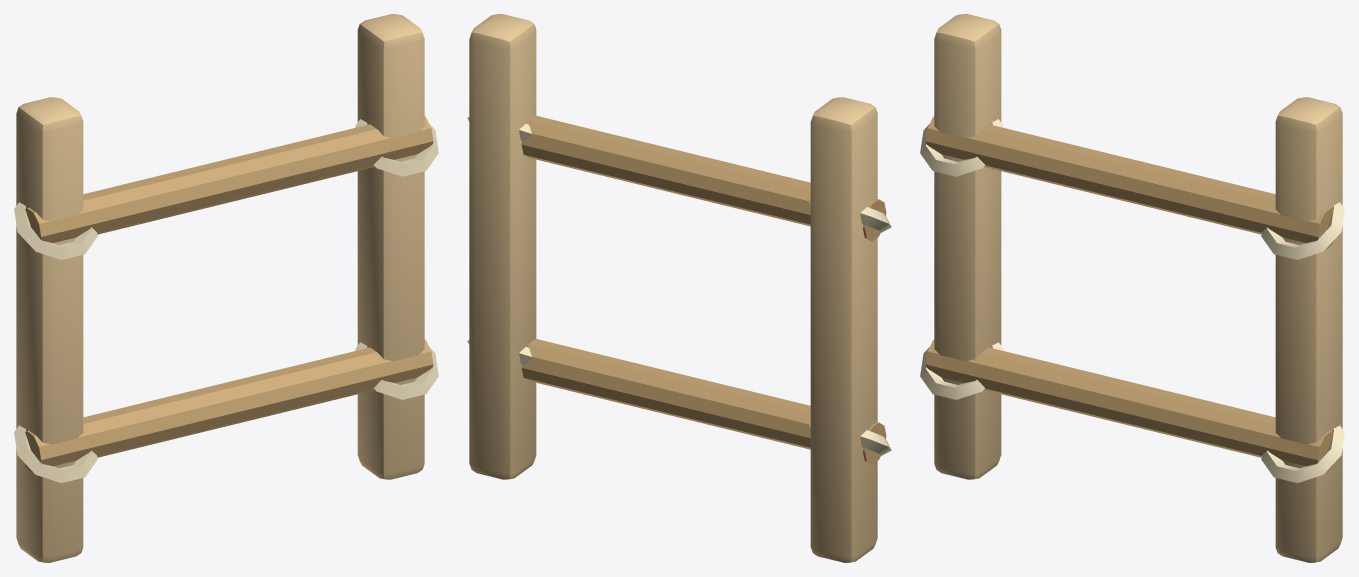
Rendered from ladder.glb.
The picture shows the model from 3 angles, left to right: view 1: azimuth 30°, elevation 25°; view 2: azimuth 150°, elevation 25°; view 3: azimuth 330°, elevation 25°; orthographic projection.
Visible parts, largest first — view 1: ladder; view 2: ladder; view 3: ladder.
Boxes of the visible parts, box(x1,y1,x2,y2) form: ladder: box(14, 14, 438, 562); ladder: box(467, 14, 891, 562); ladder: box(920, 14, 1344, 562).
Size of the model in its own units: 0.49 by 0.5 by 0.0773.
